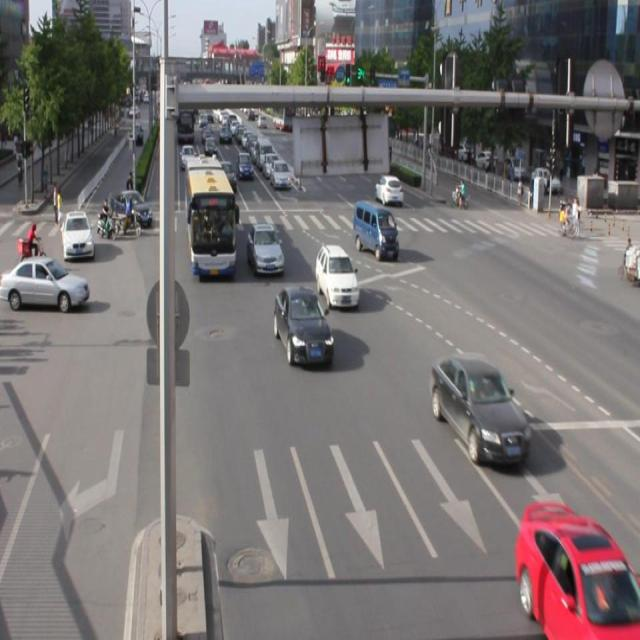car: (514, 503, 640, 640), (429, 354, 529, 466), (275, 285, 332, 368), (315, 244, 360, 308), (248, 221, 284, 277)
truck: (353, 200, 398, 262)
van: (185, 156, 236, 278)
